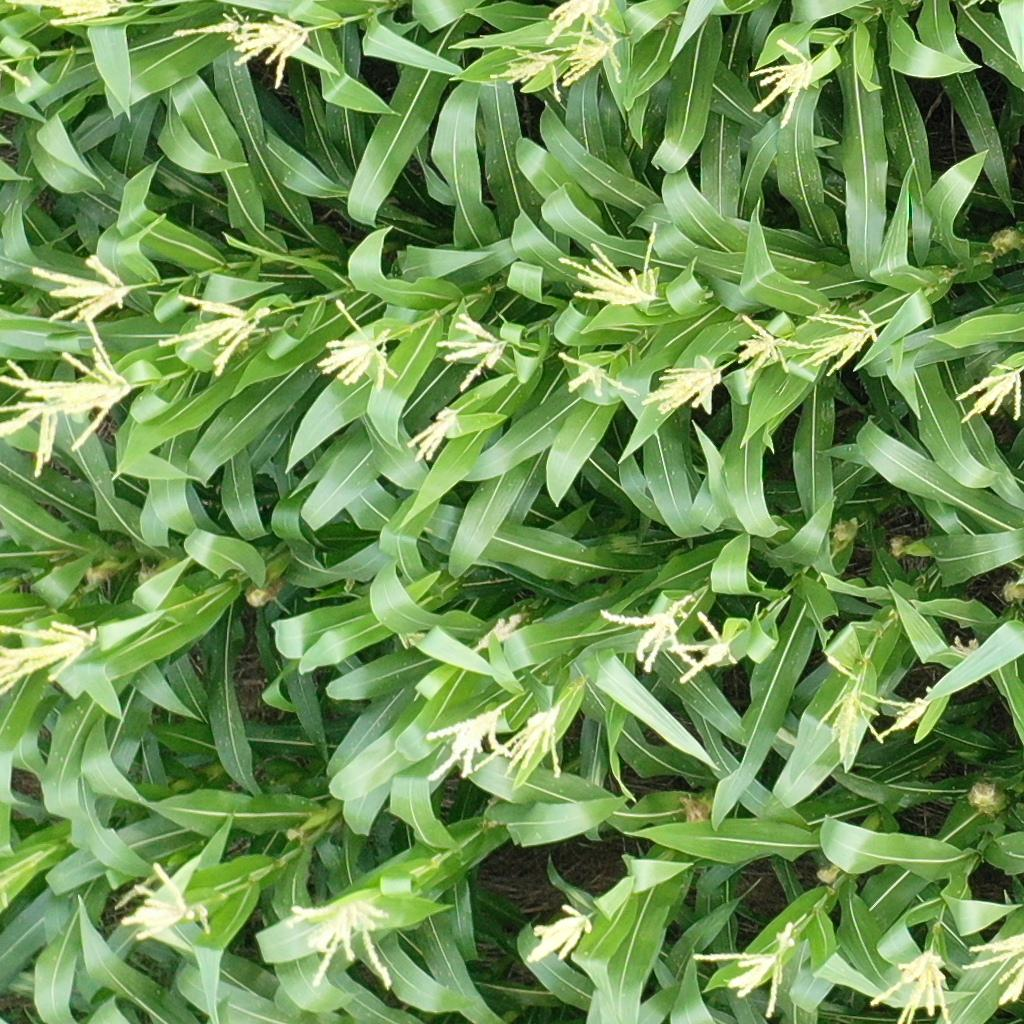Tassel: (1, 314, 133, 450), (286, 896, 400, 998), (693, 919, 798, 1020), (154, 291, 273, 380), (556, 220, 668, 311), (475, 705, 574, 790), (121, 859, 212, 951), (316, 298, 400, 395), (595, 592, 698, 671), (28, 254, 134, 327), (1, 357, 65, 477), (1, 618, 99, 695), (815, 656, 885, 763), (424, 703, 514, 782), (870, 942, 956, 1024), (744, 39, 819, 130), (227, 12, 314, 90), (432, 311, 511, 395), (798, 308, 888, 376), (731, 314, 807, 388), (958, 927, 1024, 1007), (486, 41, 567, 106), (666, 610, 739, 681), (641, 361, 731, 418), (521, 904, 594, 970), (558, 23, 627, 92), (952, 361, 1024, 425), (557, 349, 639, 402), (404, 403, 468, 466), (542, 1, 614, 57), (861, 685, 933, 739), (5, 1, 138, 29), (171, 4, 251, 42), (476, 610, 529, 647), (949, 633, 982, 658), (395, 628, 430, 650), (961, 1, 995, 11)
